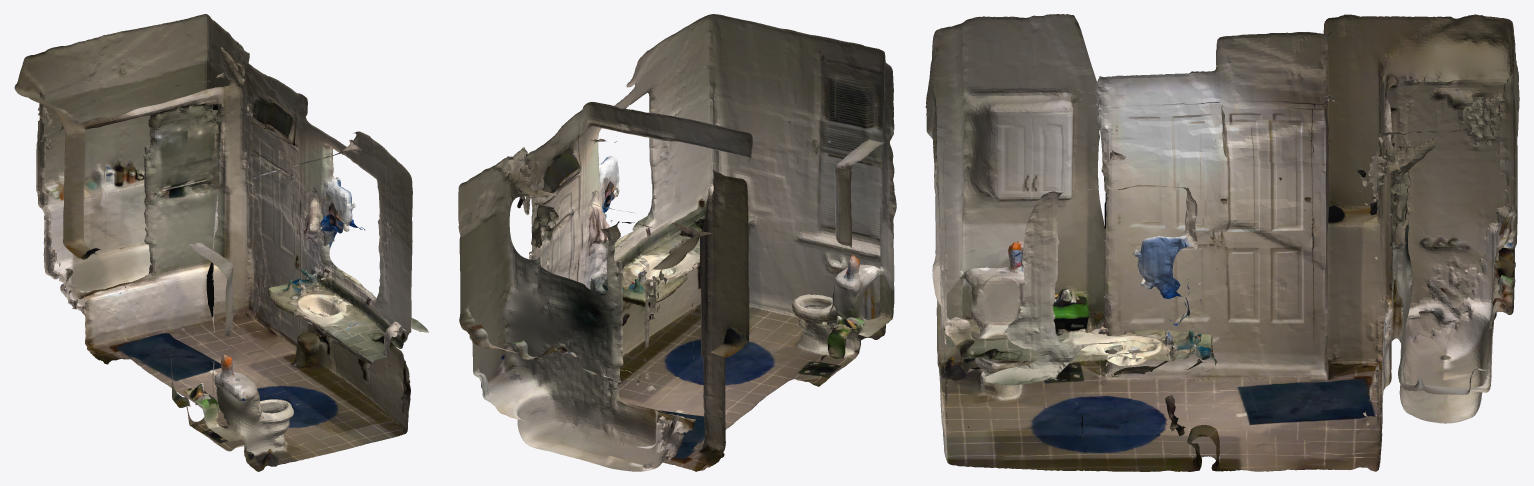
Rendered from bathroom1.glb.
The picture shows the model from 3 angles, left to right: view 1: azimuth 30°, elevation 25°; view 2: azimuth 150°, elevation 25°; view 3: azimuth 270°, elevation 25°; orthographic projection. The views are drawn at different scales.
Parts seen in each view (by area): view 1: Mesh_1; view 2: Mesh_1; view 3: Mesh_1.
Boxes of the visible parts, x1=… form: Mesh_1: x1=14, y1=14, x2=428, y2=471; Mesh_1: x1=458, y1=14, x2=896, y2=471; Mesh_1: x1=925, y1=14, x2=1519, y2=471.
Size of the model in its own units: 2.43 by 2.72 by 4.21.
Materials: 3 (3 with a texture image).
